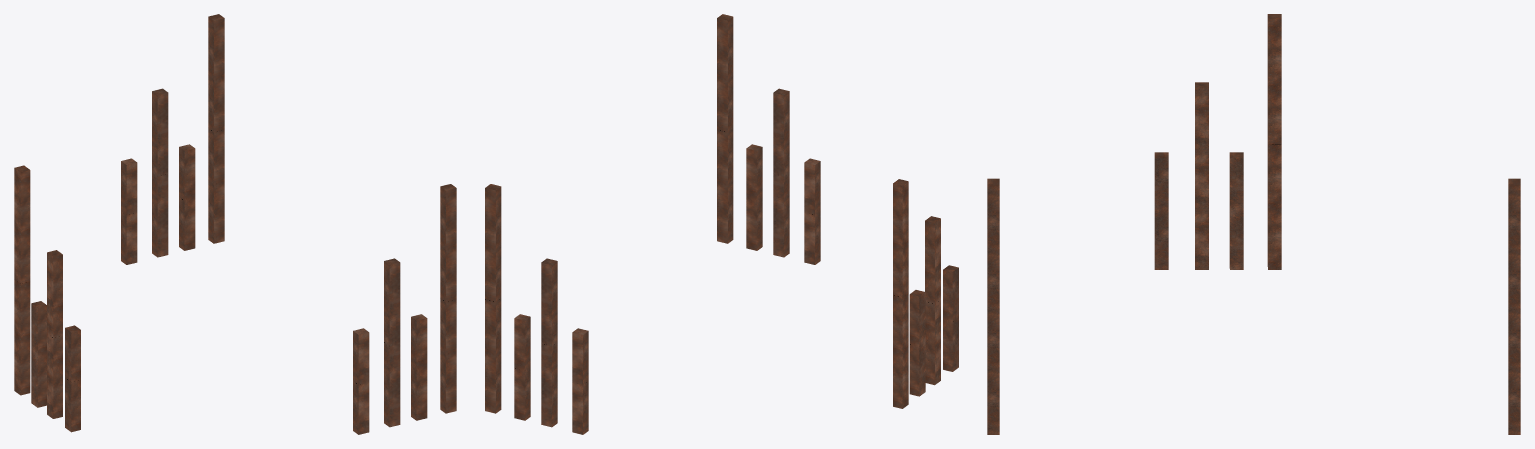
Rendered from building5_pipes.obj.
3 renders of one model, left to right at view 1: azimuth 30°, elevation 25°; view 2: azimuth 150°, elevation 25°; view 3: azimuth 270°, elevation 25°, orthographic. The views are drawn at different scales.
Visible parts, largest first — view 1: block5-pillars; view 2: block5-pillars; view 3: block5-pillars.
Part boxes in pixels (x1,y1,x2,y2): block5-pillars: [14, 14, 456, 434]; block5-pillars: [485, 14, 958, 434]; block5-pillars: [987, 14, 1520, 434].
Size of the model in its own units: 14.31 by 9.81 by 18.93.
1 material, 1 textured.
